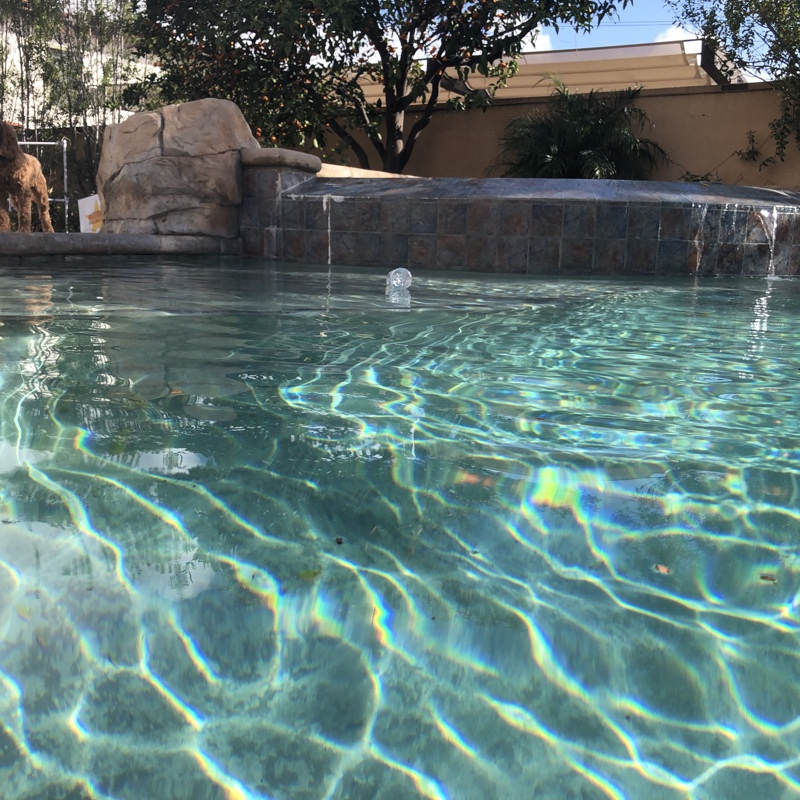Plastic Bottle: (383, 265, 414, 293)
